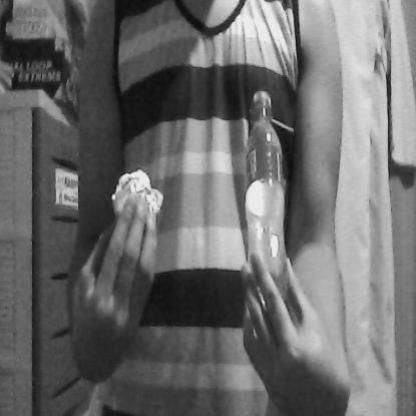Plastic Bottle: (239, 85, 296, 316)
